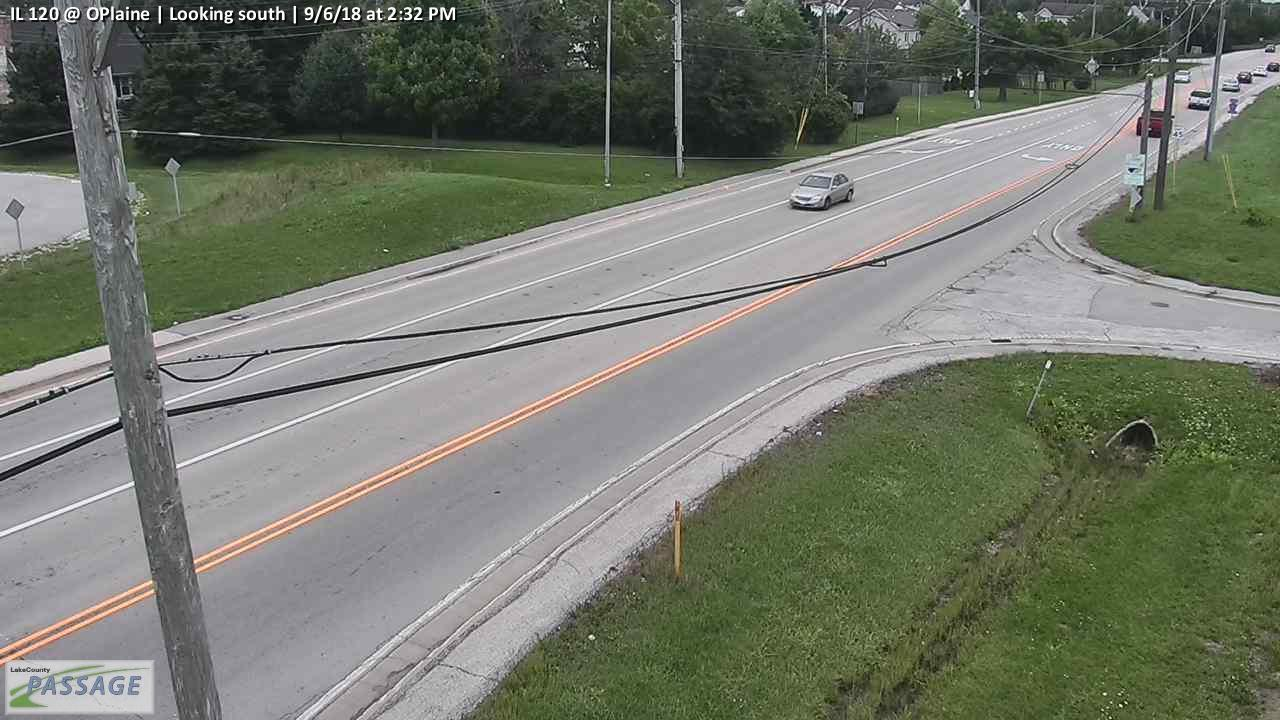SUV: (1188, 87, 1212, 110)
Sedan: (790, 170, 856, 210), (1222, 77, 1240, 91), (1238, 70, 1252, 83)
